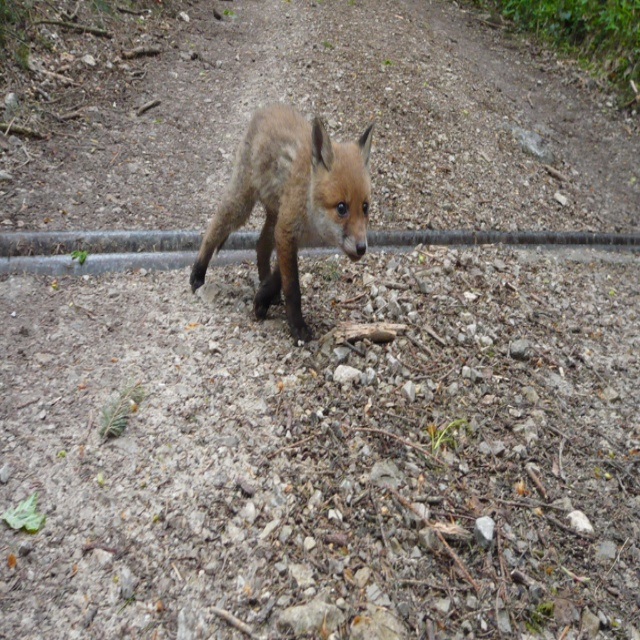Fox: (189, 97, 376, 346)
